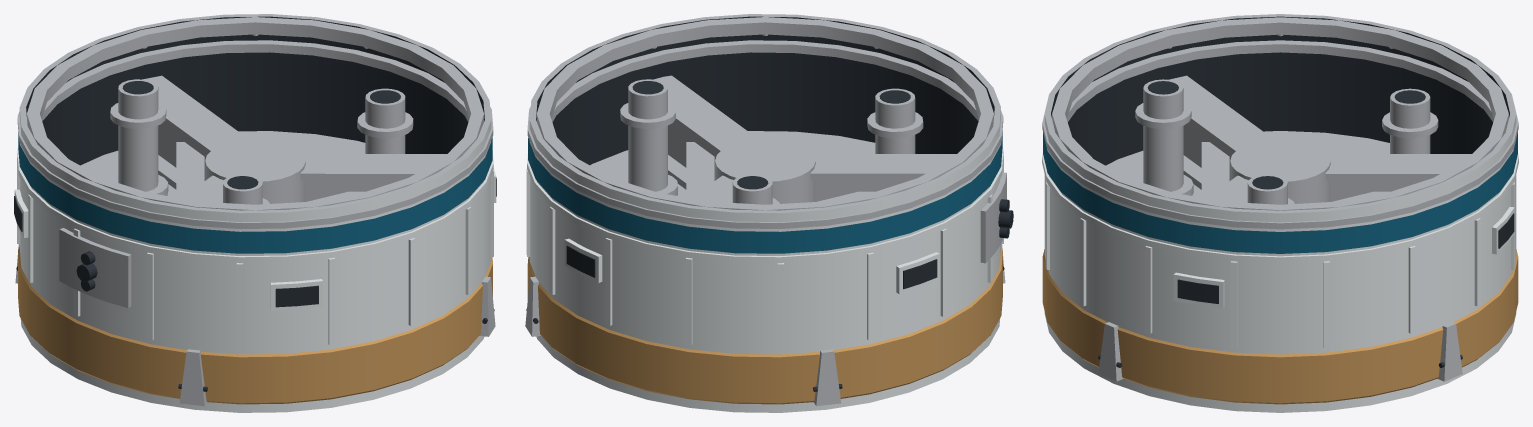
File: mount_s1_3_d15.glb
3 renders of one model, left to right at view 1: azimuth 30°, elevation 25°; view 2: azimuth 150°, elevation 25°; view 3: azimuth 270°, elevation 25°, orthographic.
Parts seen in each view (by area): view 1: mount_s1_3_d15_mesh; view 2: mount_s1_3_d15_mesh; view 3: mount_s1_3_d15_mesh.
Part boxes in pixels (left/top/right/bottom): mount_s1_3_d15_mesh: left=14, top=14, right=496, bottom=412; mount_s1_3_d15_mesh: left=525, top=14, right=1013, bottom=412; mount_s1_3_d15_mesh: left=1042, top=14, right=1518, bottom=412.
Bounding box in the file's own units: 1.53 × 0.7 × 1.52.
